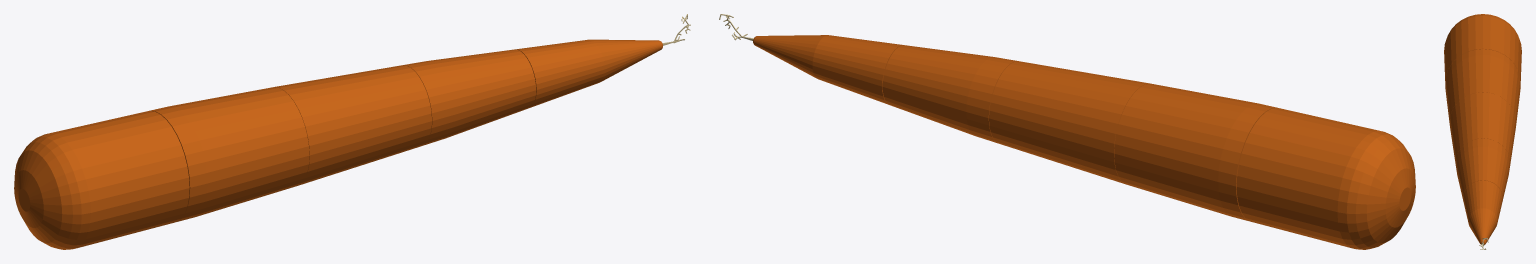
Rendered from Carrot2.0.1.fbx.
The picture shows the model from 3 angles, left to right: view 1: azimuth 30°, elevation 25°; view 2: azimuth 150°, elevation 25°; view 3: azimuth 270°, elevation 25°; orthographic projection. The views are drawn at different scales.
Parts seen in each view (by area): view 1: CarrotHead, CarrotUpperBody, CarrotLowerBody, CarrotsLegs, CarrotFeet; view 2: CarrotHead, CarrotUpperBody, CarrotLowerBody, CarrotsLegs, CarrotFeet; view 3: CarrotUpperBody, CarrotLowerBody, CarrotHead, CarrotsLegs, CarrotFeet.
Part boxes in pixels (left/top/right/bottom): CarrotHead: left=14, top=110, right=189, bottom=249; CarrotUpperBody: left=150, top=87, right=309, bottom=221; CarrotLowerBody: left=275, top=65, right=431, bottom=185; CarrotsLegs: left=404, top=49, right=535, bottom=145; CarrotFeet: left=516, top=14, right=690, bottom=107; CarrotHead: left=1236, top=107, right=1415, bottom=249; CarrotUpperBody: left=1114, top=83, right=1276, bottom=220; CarrotLowerBody: left=989, top=61, right=1149, bottom=183; CarrotsLegs: left=882, top=45, right=1017, bottom=143; CarrotFeet: left=719, top=14, right=903, bottom=104; CarrotUpperBody: left=1445, top=49, right=1520, bottom=122; CarrotLowerBody: left=1449, top=92, right=1516, bottom=165; CarrotHead: left=1444, top=14, right=1521, bottom=197; CarrotsLegs: left=1455, top=138, right=1510, bottom=200; CarrotFeet: left=1463, top=180, right=1502, bottom=249.
Bounding box in the file's own units: 1298 × 200 × 200.
